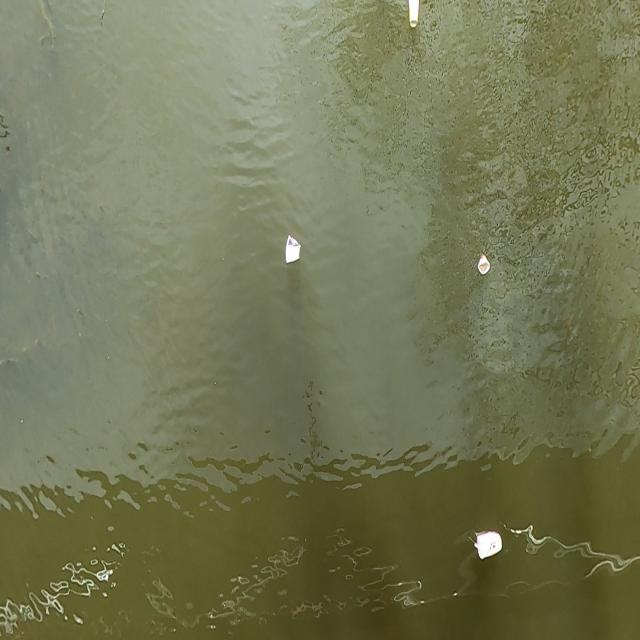Autre plastique: (478, 532, 503, 558), (286, 237, 301, 265), (409, 0, 418, 27), (479, 256, 490, 276)
